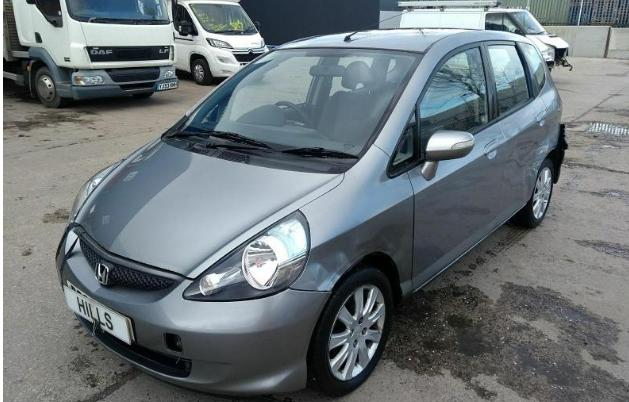Back-bumper: (557, 123, 569, 183)
Back-door: (484, 42, 551, 224)
Back-wheel: (517, 158, 554, 228)
Back-window: (488, 45, 530, 117), (518, 42, 545, 94)
Fender: (289, 143, 414, 308)
Front-bumper: (56, 224, 330, 398)
Front-door: (407, 41, 507, 292)
Front-wheel: (306, 263, 394, 397)
Front-window: (421, 48, 489, 163), (389, 109, 416, 176)
Grille: (81, 239, 173, 289)
Headlight: (184, 210, 311, 302), (67, 158, 126, 229)
Hood: (74, 133, 343, 279)
License-plate: (63, 280, 135, 345)
Mirror: (422, 130, 475, 182)
Quarter-panel: (539, 67, 563, 147)
Rocker-panel: (415, 198, 530, 295)
Roof: (276, 29, 483, 52)
Windshield: (161, 49, 424, 175)
